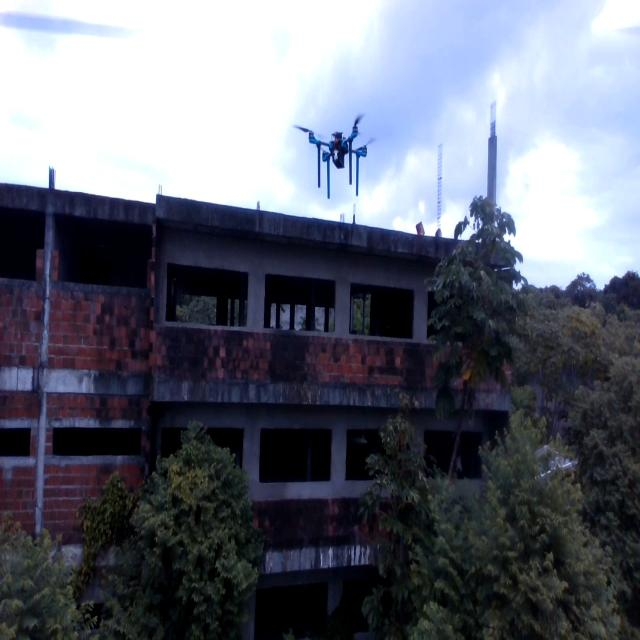-uav-: (288, 90, 380, 248)
